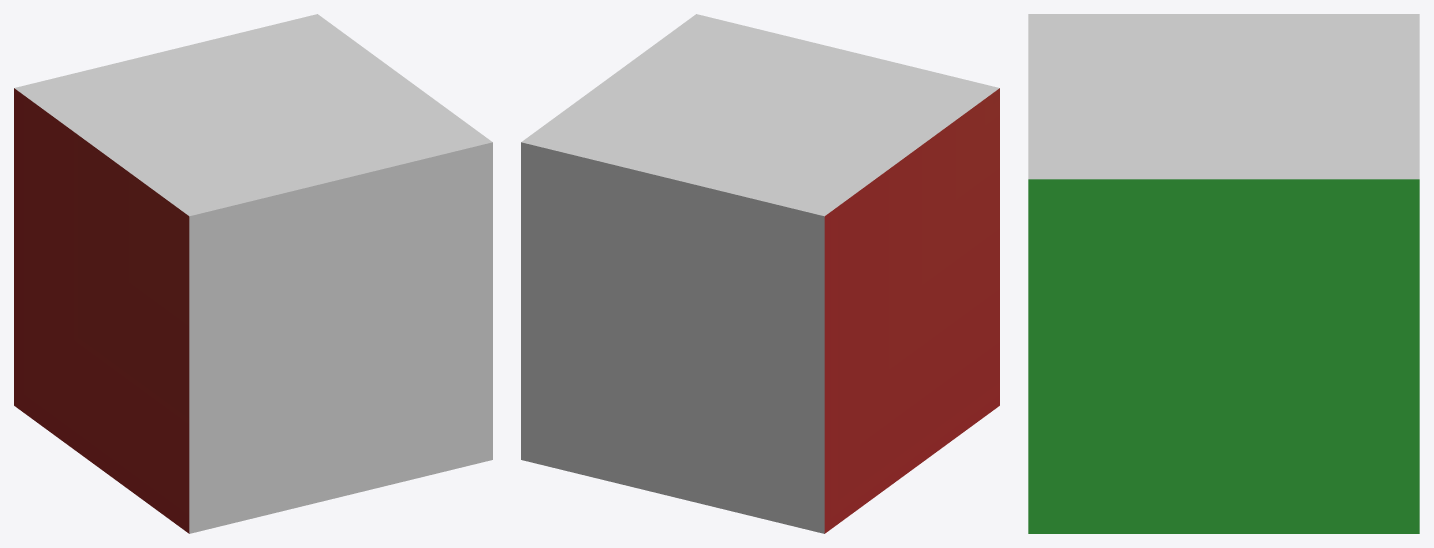
Rendered from simpelRad.fbx.
The picture shows the model from 3 angles, left to right: view 1: azimuth 30°, elevation 25°; view 2: azimuth 150°, elevation 25°; view 3: azimuth 270°, elevation 25°; orthographic projection. The views are drawn at different scales.
Parts seen in each view (by area): view 1: BackWall.001; view 2: BackWall.001; view 3: BackWall.001.
Part boxes in pixels (x1=…): BackWall.001: x1=14, y1=14, x2=492, y2=533; BackWall.001: x1=521, y1=14, x2=999, y2=533; BackWall.001: x1=1028, y1=14, x2=1419, y2=533.
Size of the model in its own units: 200 by 200 by 200.
